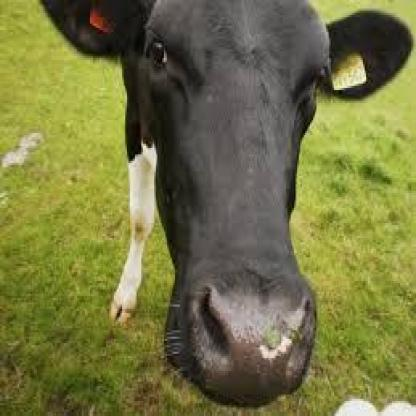cow: (40, 0, 412, 407)
